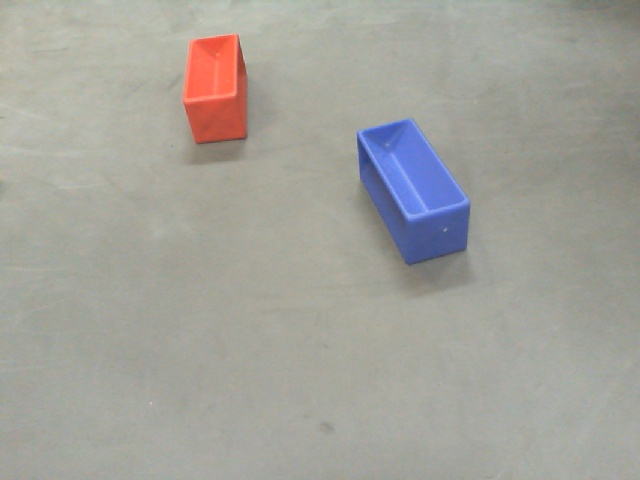BlueSample: (359, 116, 471, 267)
RedSample: (183, 34, 249, 148)
